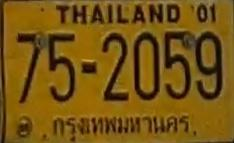0: (133, 31, 159, 99)
2: (102, 32, 127, 100)
5: (47, 32, 75, 102), (164, 30, 190, 98)
7: (16, 32, 43, 102)
9: (194, 30, 222, 98)
BKK: (44, 109, 196, 139)
